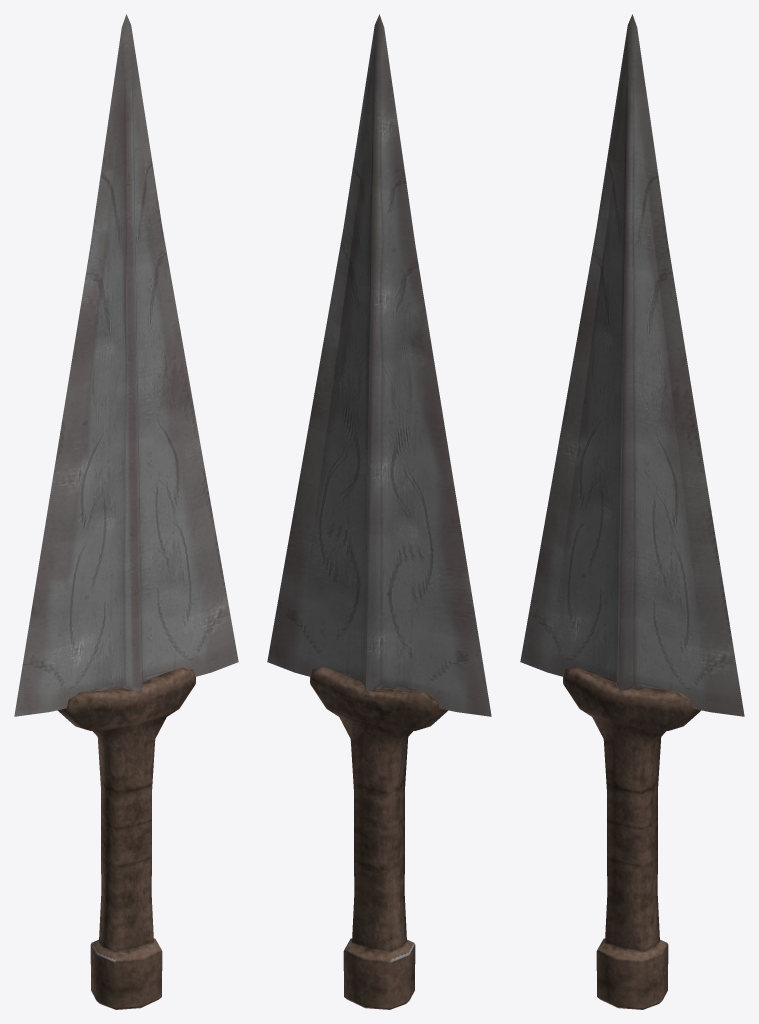
Rendered from Dagger.fbx.
3 renders of one model, left to right at view 1: azimuth 30°, elevation 25°; view 2: azimuth 150°, elevation 25°; view 3: azimuth 330°, elevation 25°, orthographic.
Parts seen in each view (by area): view 1: Dagger; view 2: Dagger; view 3: Dagger.
Part boxes in pixels (x1,y1,x2,y2): Dagger: (14,14,238,1009); Dagger: (267,14,491,1009); Dagger: (520,14,744,1009).
Bounding box in the file's own units: 11 × 46.15 × 2.87.
